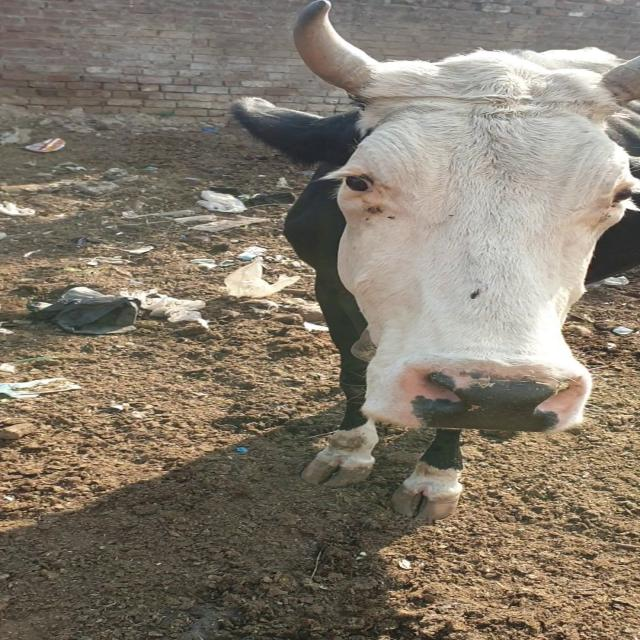cowFace: (318, 56, 640, 429)
